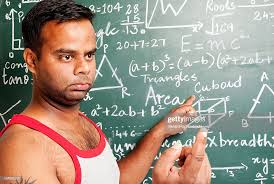Indian_Male: (29, 3, 101, 102)
